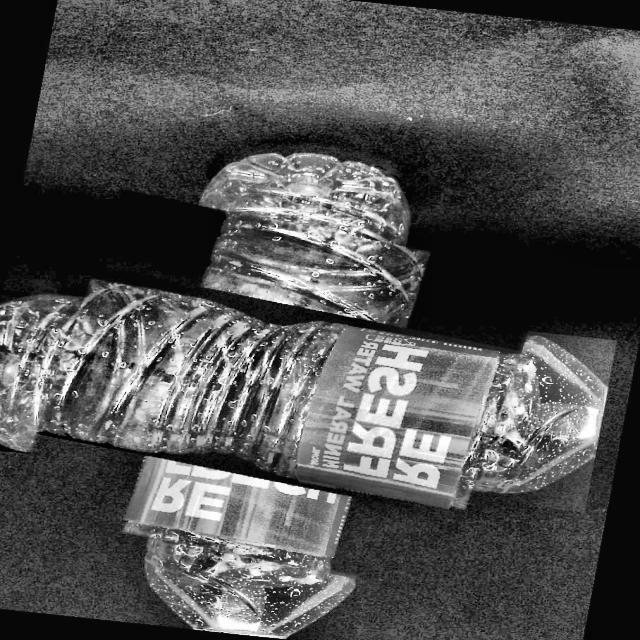Plastic-Bottle: (16, 195, 542, 590)
